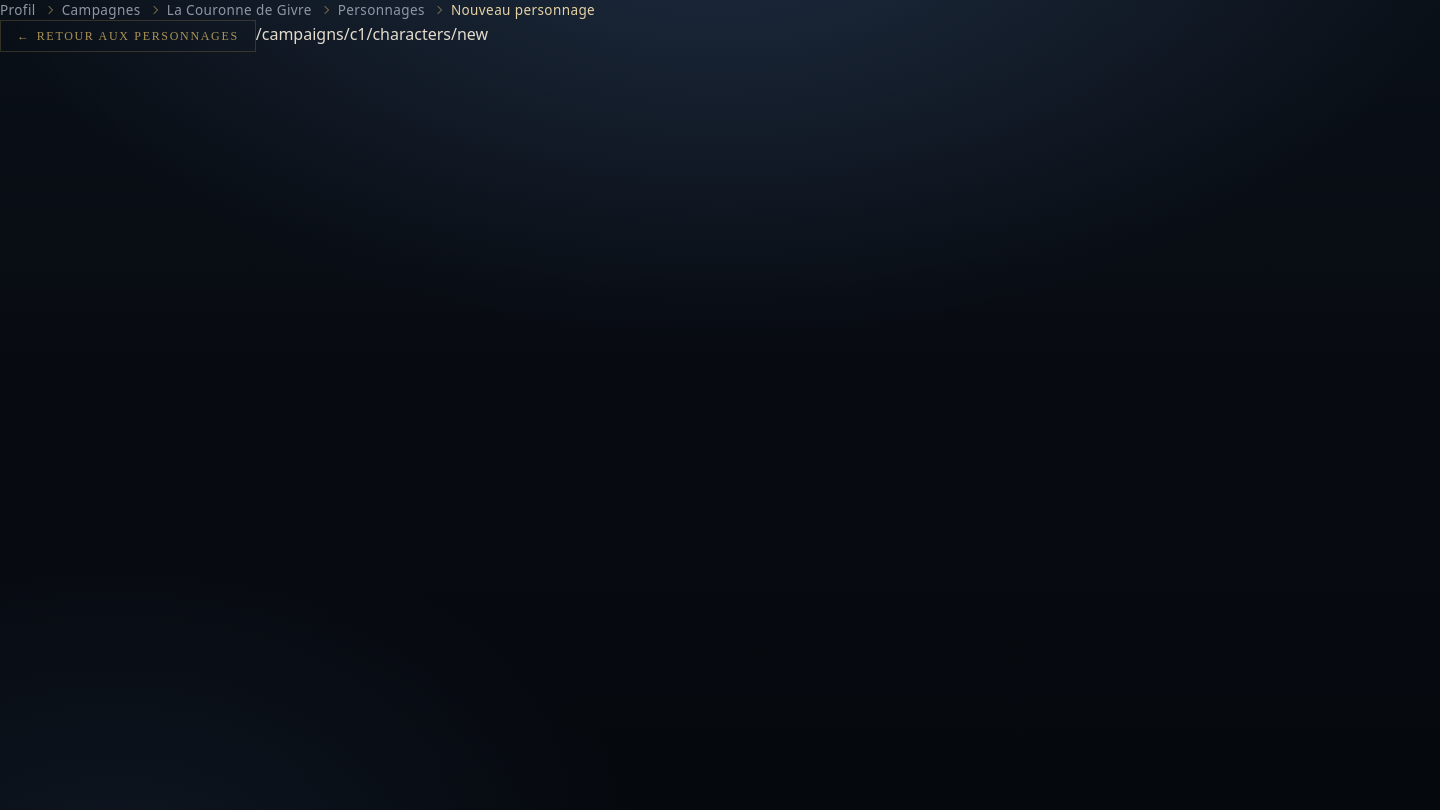
Scenario: LeaveBuilderContainer › continuer la création referme la modale sur place
This screenshot has width=1440, height=810.
Click the link "Campagnes" at (101, 10), box [62, 0, 141, 20]
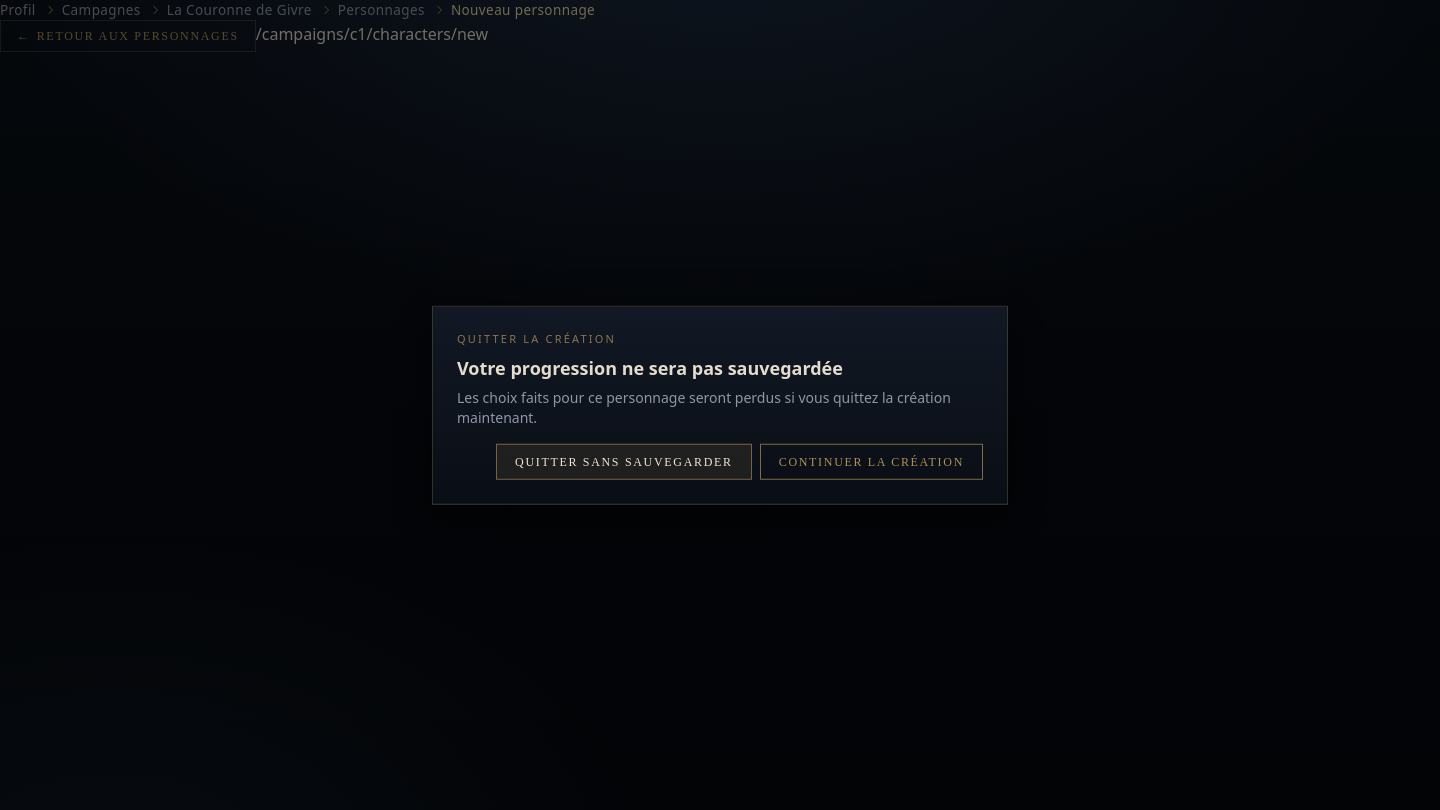
Click the button "Continuer la création" at (871, 461), box [760, 443, 983, 479]
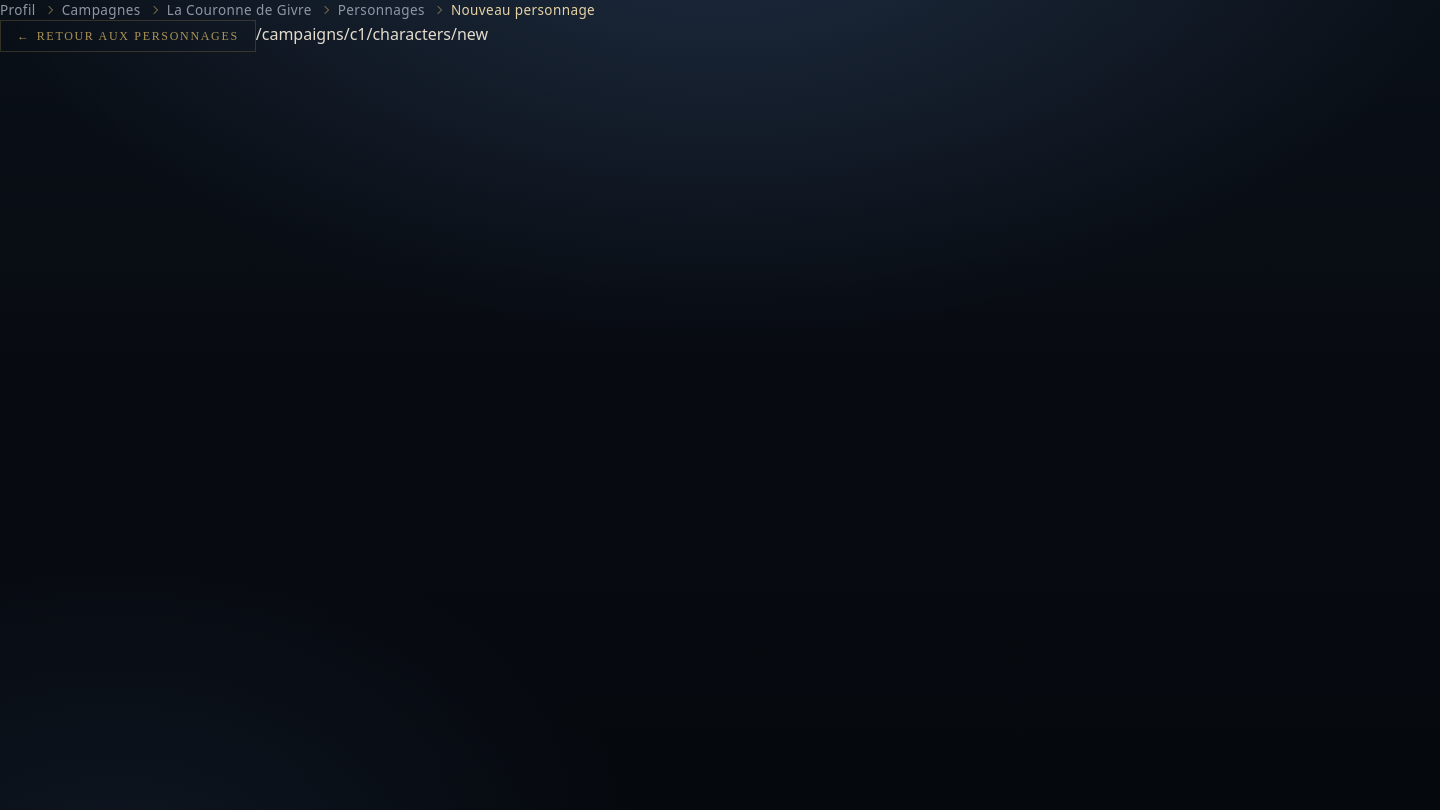
Expected: the text named "adresse" reads "/campaigns/c1/characters/new", [256, 23, 488, 45]
Expected: the dialog is gone
